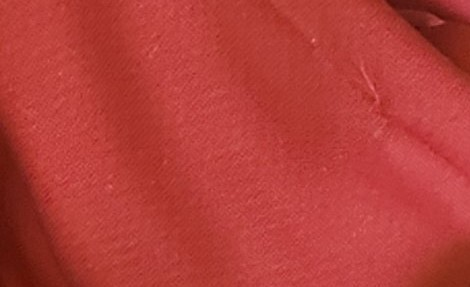snag: (353, 60, 392, 114)
